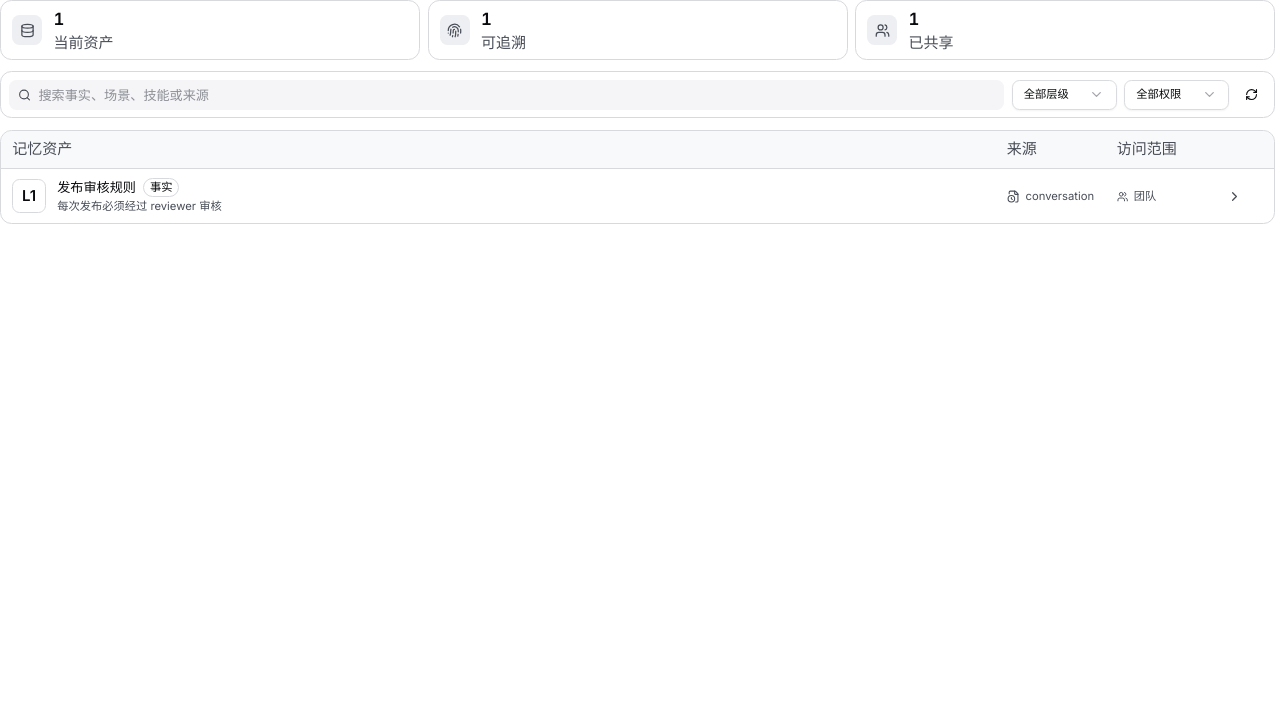
Scenario: <MemoryAssetsPanel /> › opens source and access details from an asset row
What coordinates should you click on to do the following:
click the button "L1 发布审核规则 事实 每次发布必须经过 reviewer 审核 conversation 团队"
I would click on:
 (29, 196)
Its box is 1,169 -> 1274,223.
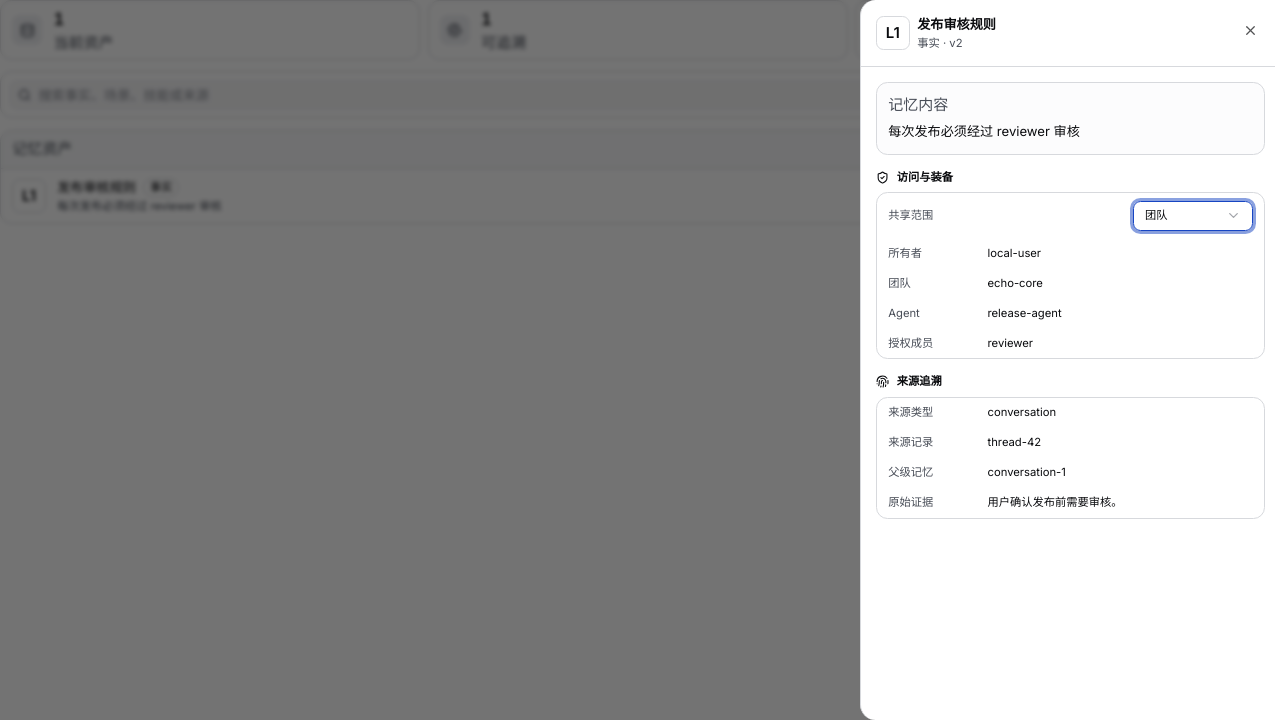
Now the text "访问与装备" is shown, box 876,170 -> 953,184
Now the text "来源追溯" is shown, box 876,374 -> 942,388
Now the text "thread-42" is shown, box 988,435 -> 1041,449
